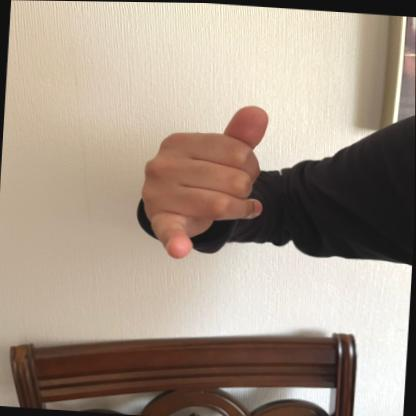Z: (138, 99, 274, 269)
